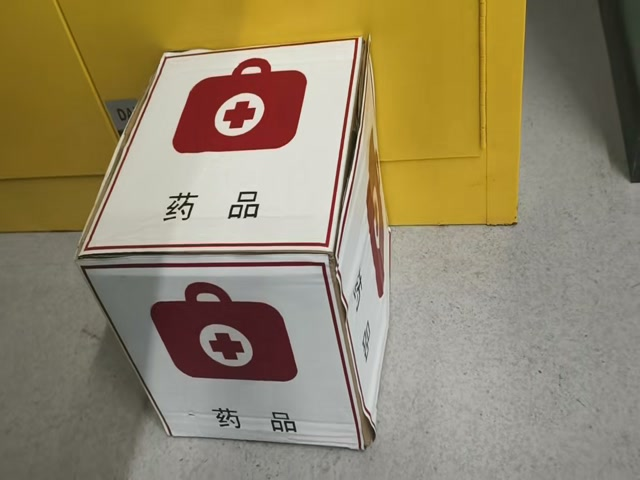Cube_medicine: (77, 38, 367, 267)
